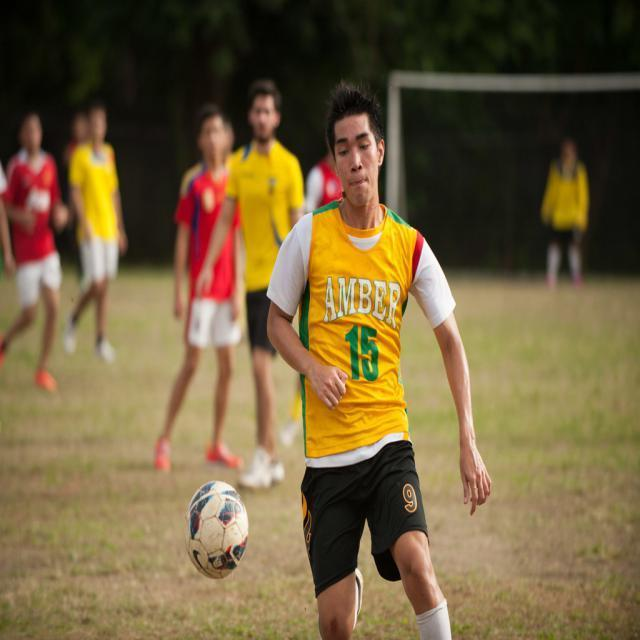football: (172, 486, 267, 582)
